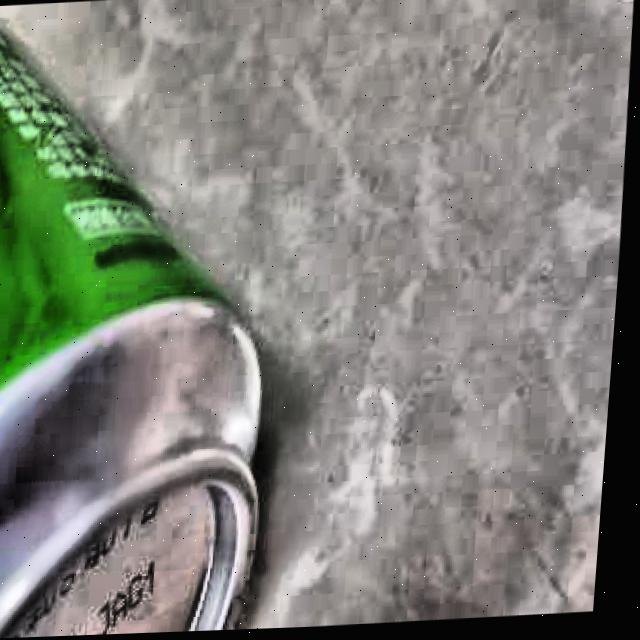metal: (0, 26, 285, 639)
